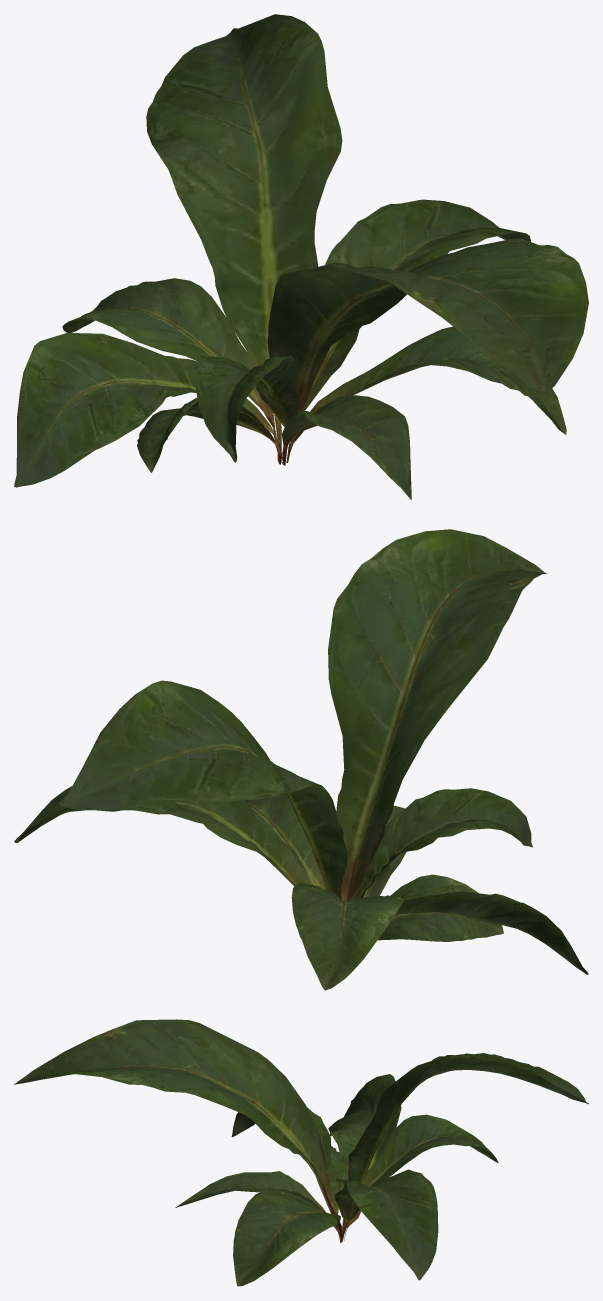
Rendered from anturio.glb.
3 renders of one model, top to bottom at view 1: azimuth 30°, elevation 25°; view 2: azimuth 150°, elevation 25°; view 3: azimuth 270°, elevation 25°, orthographic. The views are drawn at different scales.
Visible parts, largest first — view 1: anthurium_botany_01_a; view 2: anthurium_botany_01_a; view 3: anthurium_botany_01_a.
Part boxes in pixels (left/top/right/bottom): anthurium_botany_01_a: left=14, top=14, right=588, bottom=499; anthurium_botany_01_a: left=14, top=529, right=588, bottom=990; anthurium_botany_01_a: left=14, top=1019, right=588, bottom=1286.
Size of the model in its own units: 0.8962 by 0.4996 by 1.14.
Materials: 1 (1 with a texture image).
